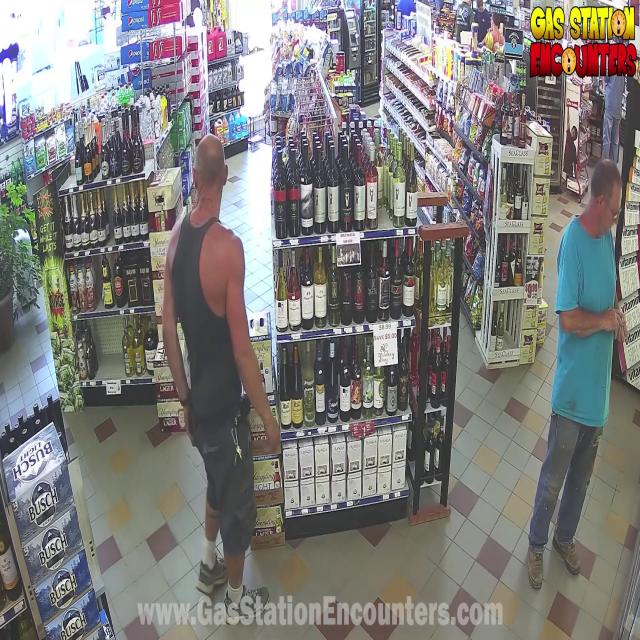normal: (520, 128, 640, 578)
shoplifting: (150, 131, 291, 640)
